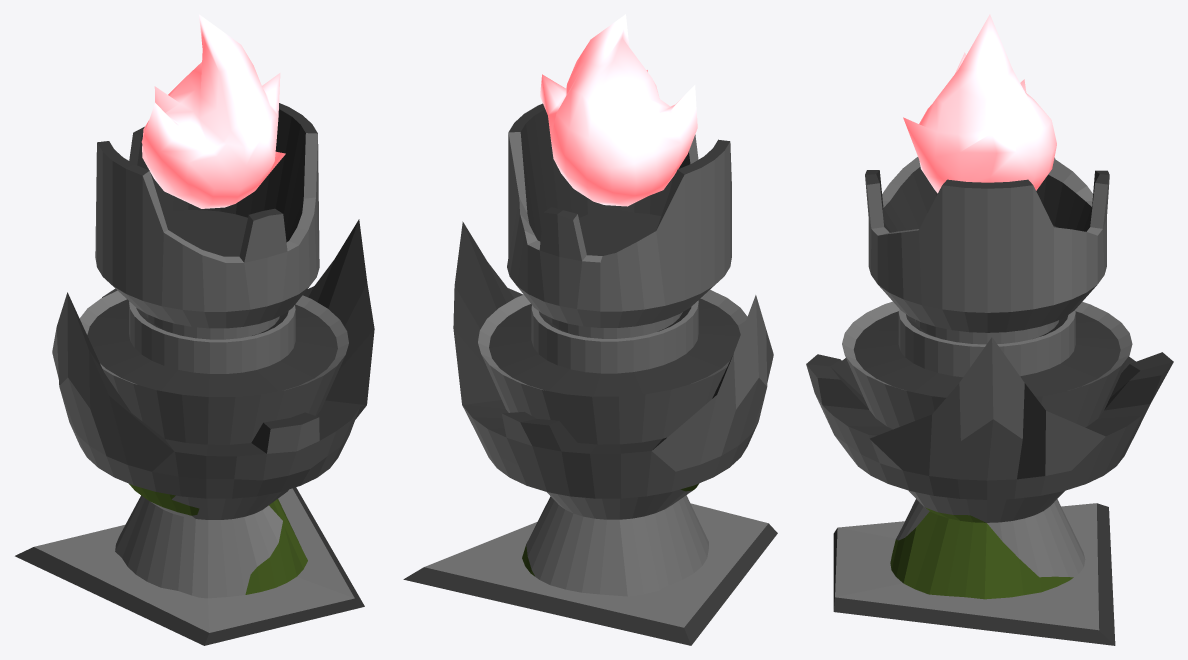
Rendered from statue - fire.glb.
The picture shows the model from 3 angles, left to right: view 1: azimuth 30°, elevation 25°; view 2: azimuth 150°, elevation 25°; view 3: azimuth 270°, elevation 25°; orthographic projection.
Parts seen in each view (by area): view 1: Cylinder, Cube; view 2: Cylinder, Cube; view 3: Cylinder, Cube.
Part boxes in pixels (x1,y1,x2,y2): Cylinder: [15, 103, 374, 645]; Cube: [141, 14, 285, 208]; Cylinder: [403, 103, 777, 645]; Cube: [540, 14, 697, 206]; Cylinder: [806, 157, 1173, 645]; Cube: [903, 14, 1056, 193].
Bounding box in the file's own units: 1.9 × 3.45 × 2.07.
